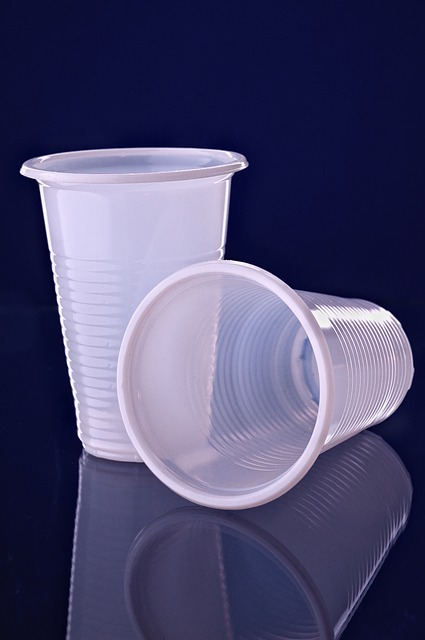cup: (110, 255, 416, 527), (21, 120, 257, 256)
